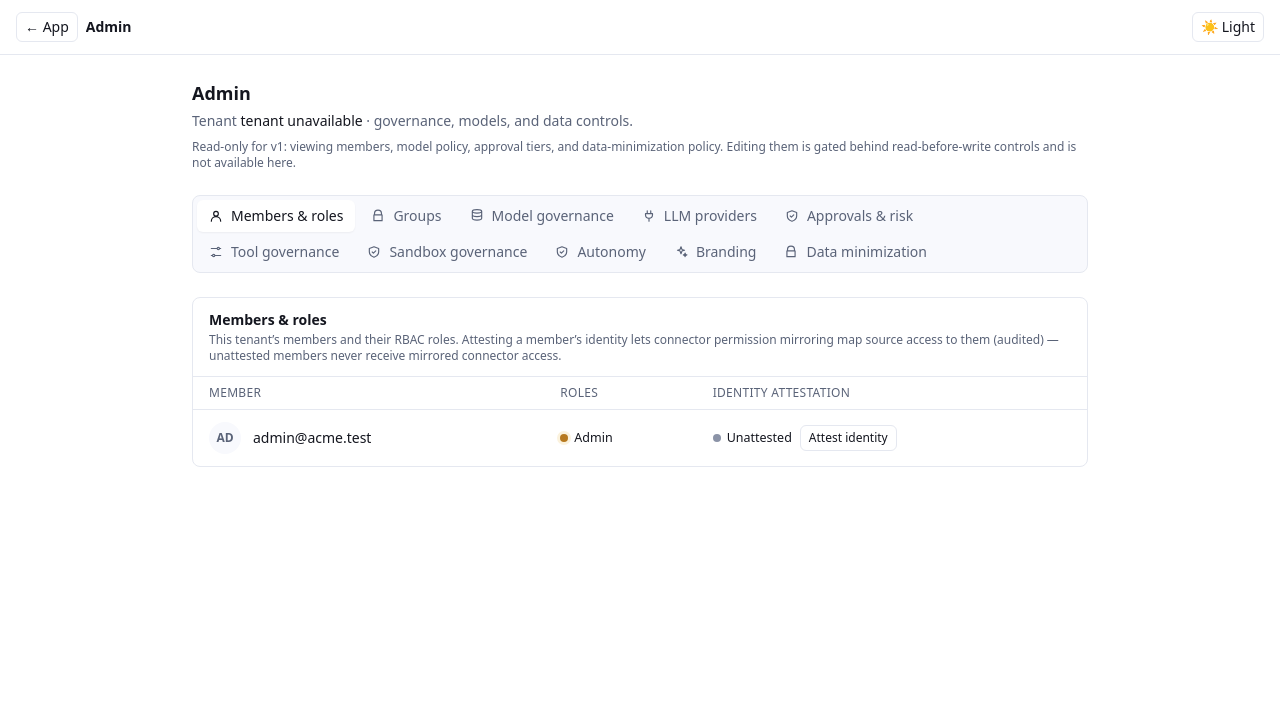
Test: AdminPage › surfaces the Sandbox governance write controls when that tab is active (#233)
Expected: the text "admin@acme.test" is shown, [253, 428, 371, 448]
Click the tab "Sandbox governance".
click(447, 252)  # box [355, 236, 539, 268]
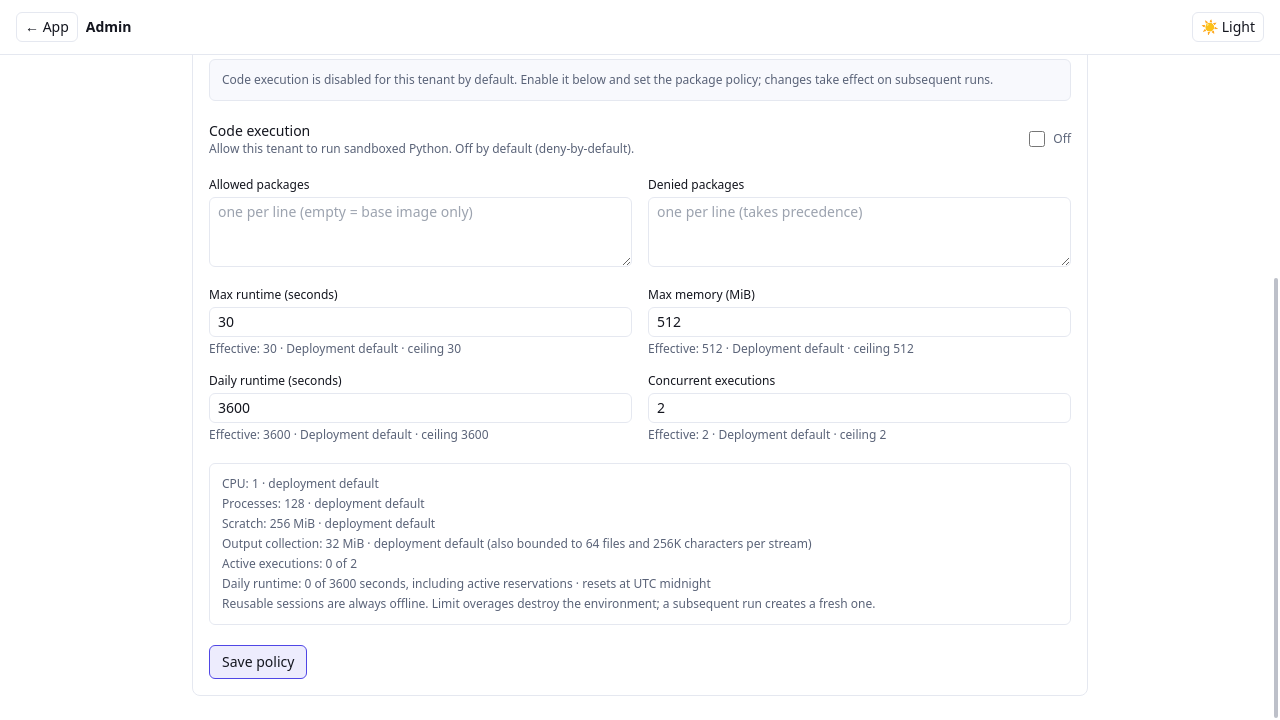
Now the switch named "enable code execution" is shown, box [1029, 131, 1045, 147]
Now the button "Save policy" is shown, box [209, 645, 307, 679]
